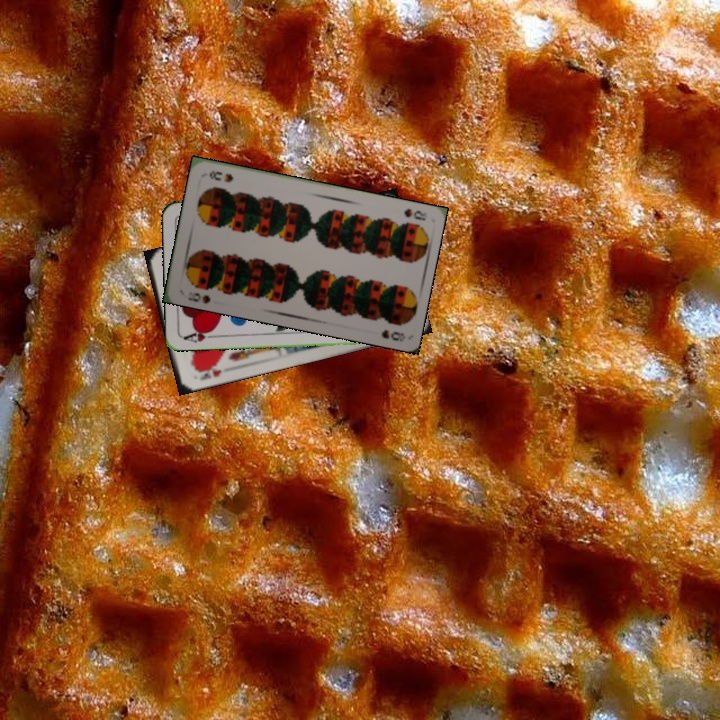HA: (180, 325, 221, 345)
HK: (191, 361, 224, 383)
S8: (400, 204, 430, 223), (184, 289, 213, 306)
